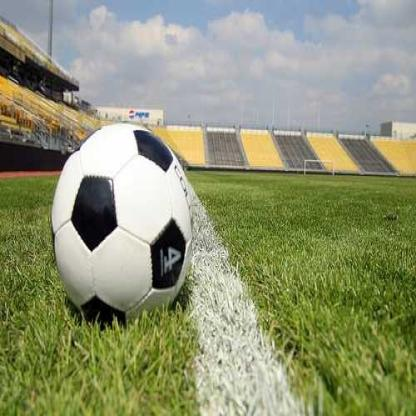ball: (50, 122, 193, 328)
